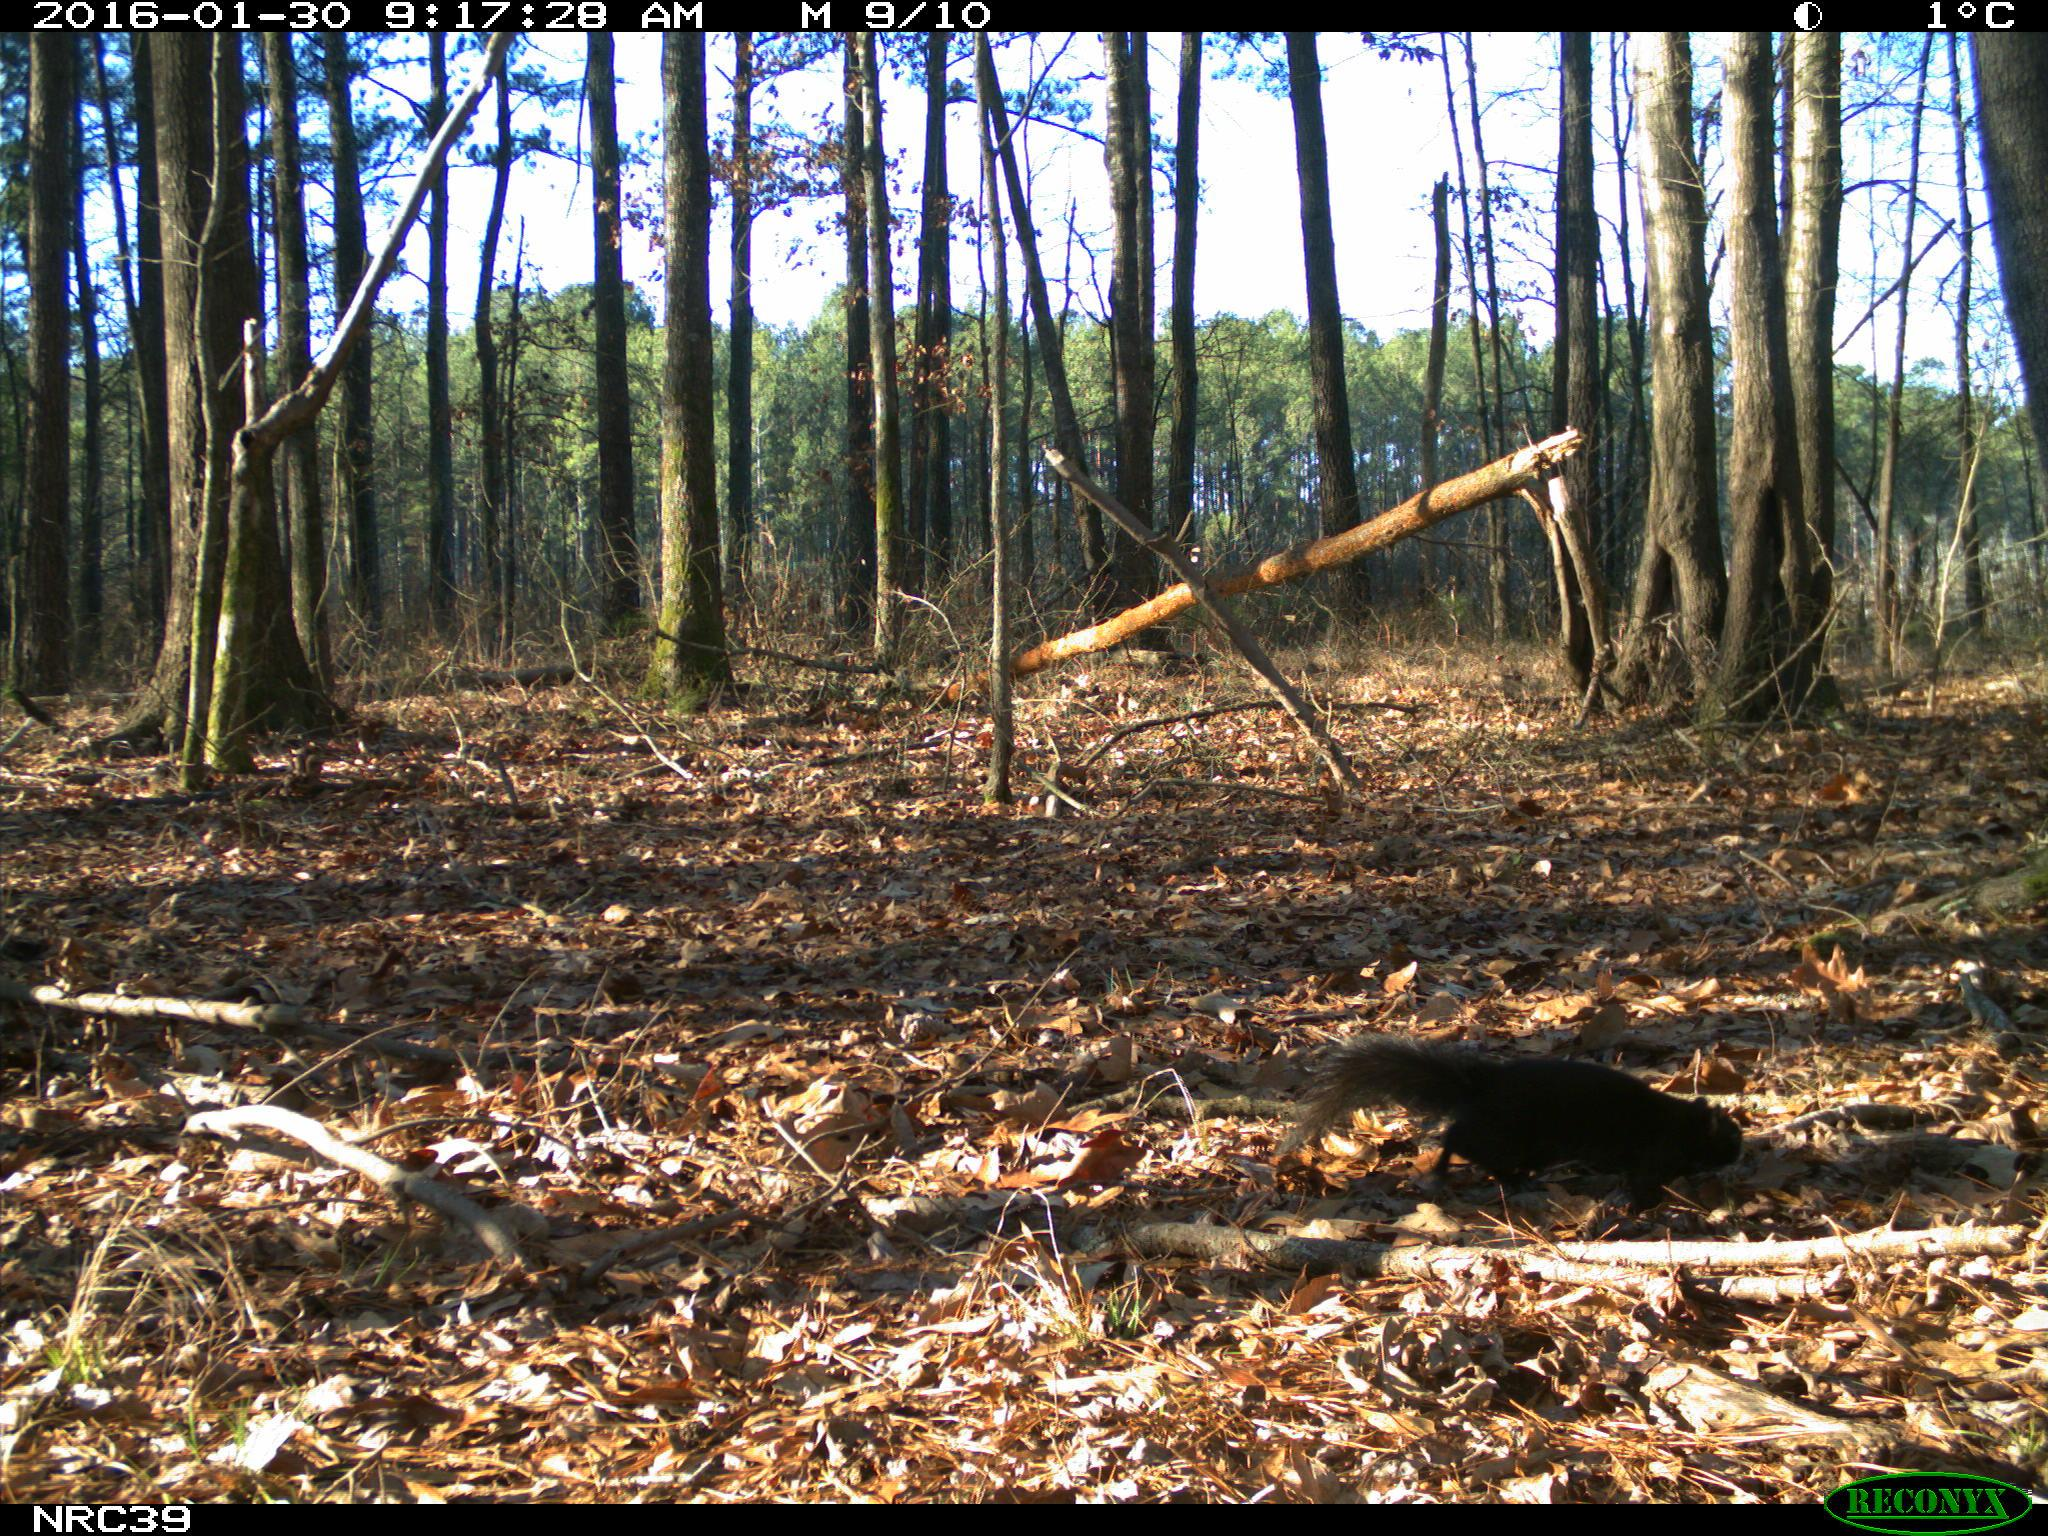Animal: (1305, 1041, 1743, 1200)
